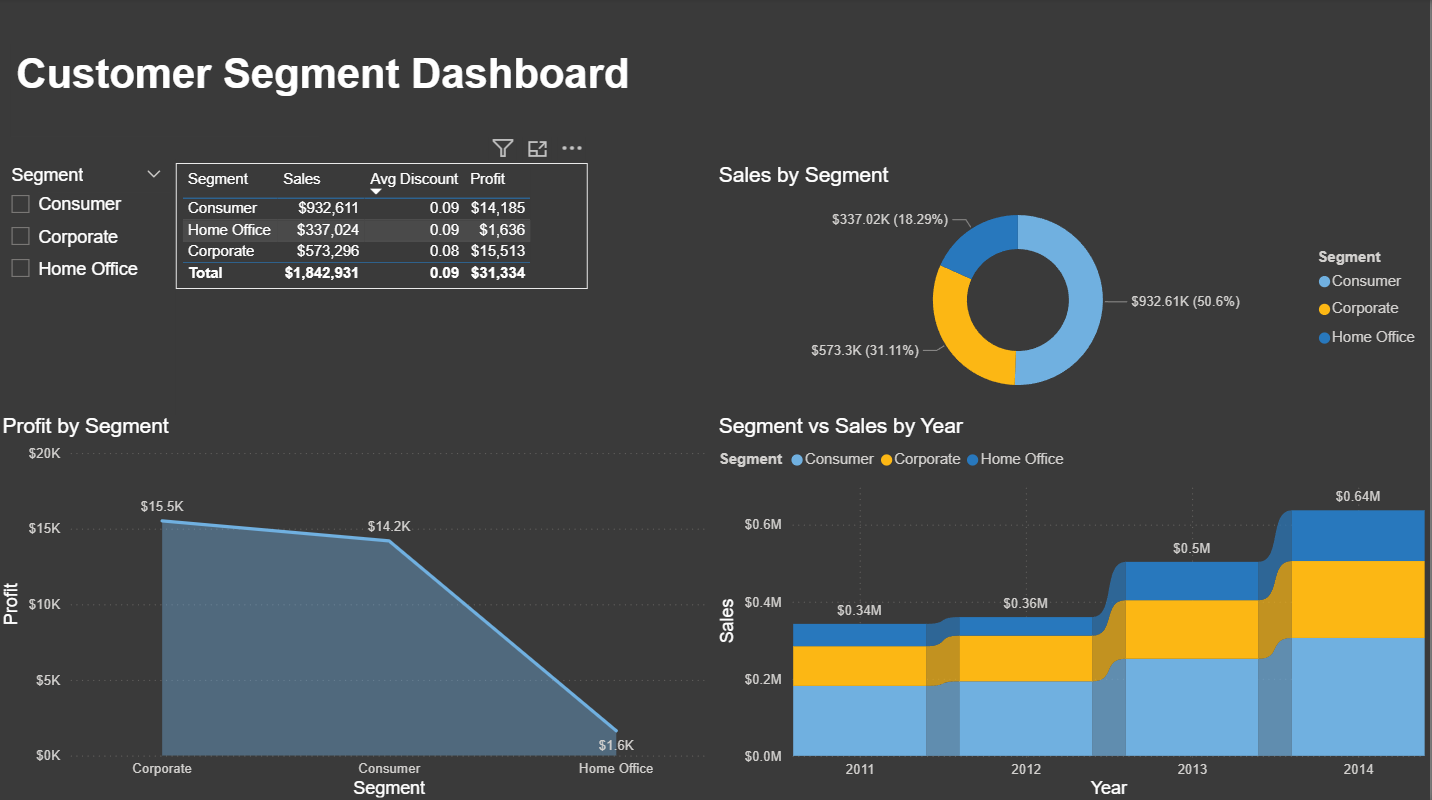

Layout of this report page (visuals, bound fields, positions):
{"tool":"powerbi","page":{"name":"Customer Segment Dashboard","canvas":[1280,720],"ordinal":3},"visuals":[{"type":"slicer","fields":{"Values":["Global-Superstore.Segment"]},"box":[0,144.2,159.3,227.9],"z":0},{"type":"donutChart","fields":{"Y":["Sum(Global-Superstore.Sales)"],"Category":["Global-Superstore.Segment"]},"box":[639.5,147.7,640.7,224.4],"z":1000},{"type":"columnChart","title":"Segment vs Sales by Year","fields":{"Series":["Global-Superstore.Segment"],"Y":["Sum(Global-Superstore.Sales)"],"Category":["Global-Superstore.Order Date.Variation.Date Hierarchy.Year"]},"box":[639.5,372.1,640.7,347.7],"z":2000},{"type":"lineChart","fields":{"Y":["Sum(Global-Superstore.Profit)"],"Category":["Global-Superstore.Segment"]},"box":[0,372.1,639.5,347.7],"z":3000},{"type":"tableEx","fields":{"Values":["Global-Superstore.Segment","Sum(Global-Superstore.Sales)","Global-Superstore.Avg Discount","Sum(Global-Superstore.Profit)"]},"box":[159.3,147.7,368.6,112.8],"z":4000},{"type":"textbox","box":[12.8,41.9,560.5,82.6],"z":5000}]}

Visuals, with their boxes in screenshot pixels (x1, y1, x2, y2), scaled from the page's 1280x720 canvas onto the 1432x800 screenshot:
slicer - Global-Superstore.Segment: l=0, t=160, r=178, b=413
donutChart - Sum(Global-Superstore.Sales) x Global-Superstore.Segment: l=715, t=164, r=1431, b=413
"Segment vs Sales by Year" columnChart: l=715, t=413, r=1431, b=799
lineChart - Sum(Global-Superstore.Profit) x Global-Superstore.Segment: l=0, t=413, r=715, b=799
tableEx - Global-Superstore.Segment x Sum(Global-Superstore.Sales): l=178, t=164, r=591, b=289
textbox: l=14, t=47, r=641, b=138
